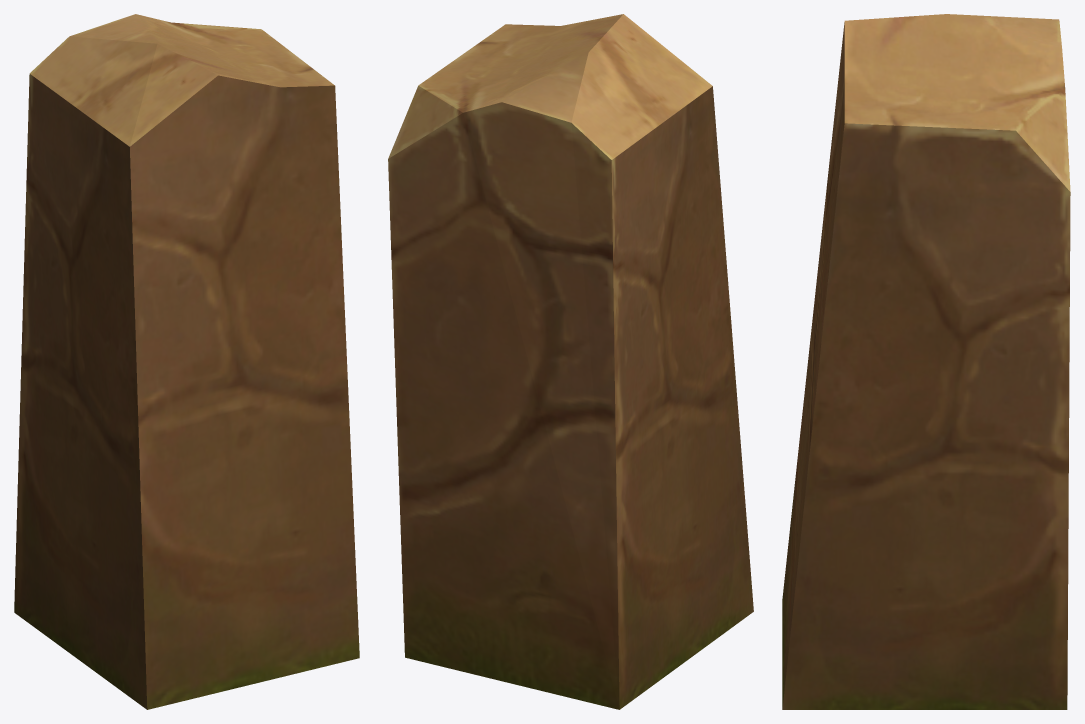
File: CeShi_BFB07_CanQiang02.FBX
3 views of the same model, side by side, from view 1: azimuth 30°, elevation 25°; view 2: azimuth 150°, elevation 25°; view 3: azimuth 270°, elevation 25° (orthographic). The views are drawn at different scales.
Parts seen in each view (by area): view 1: CeShi_BFB07_CanQiang02; view 2: CeShi_BFB07_CanQiang02; view 3: CeShi_BFB07_CanQiang02.
Boxes of the visible parts, box(x1,y1,x2,y2) form: CeShi_BFB07_CanQiang02: box(14, 14, 359, 709); CeShi_BFB07_CanQiang02: box(388, 14, 753, 709); CeShi_BFB07_CanQiang02: box(782, 14, 1070, 709).
Bounding box in the file's own units: 127 × 313 × 130.
